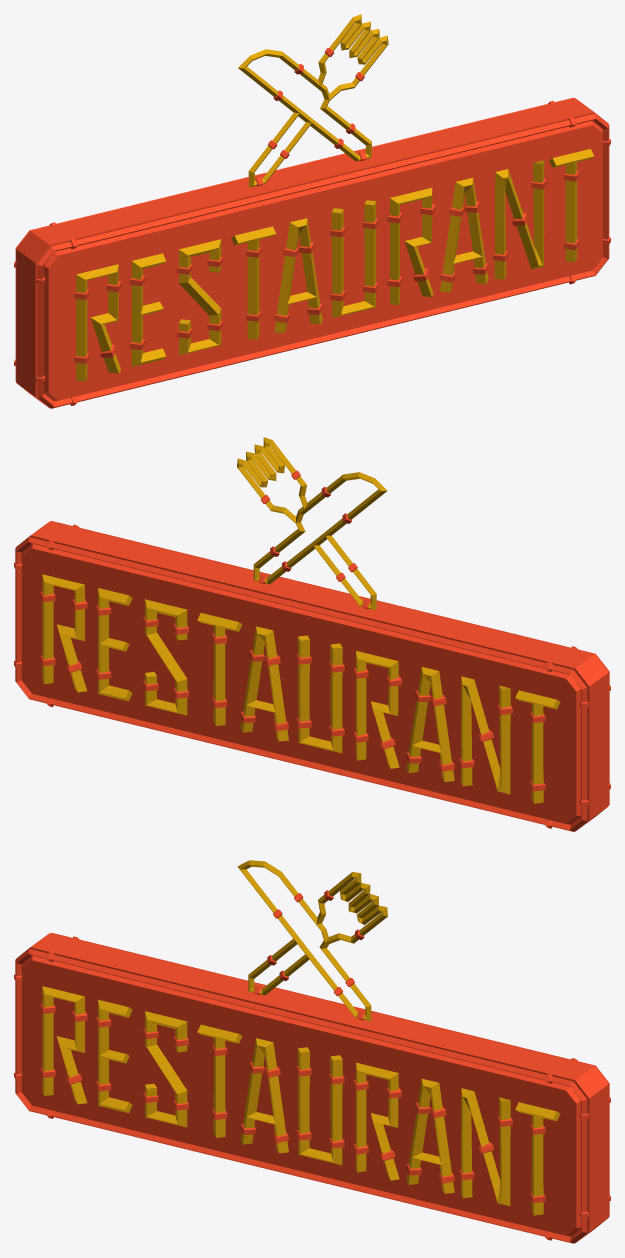
The model's file is SM_Neon_Restaurant_City.fbx.
3 views of the same model, one above another, from view 1: azimuth 30°, elevation 25°; view 2: azimuth 150°, elevation 25°; view 3: azimuth 330°, elevation 25° (orthographic).
Parts seen in each view (by area): view 1: SM_Neon_Restaurant_City; view 2: SM_Neon_Restaurant_City; view 3: SM_Neon_Restaurant_City.
Part boxes in pixels (x1,y1,x2,y2): SM_Neon_Restaurant_City: (14,14,610,408); SM_Neon_Restaurant_City: (14,437,610,831); SM_Neon_Restaurant_City: (14,860,610,1243).
Size of the model in its own units: 2.62 by 1.36 by 0.342.
